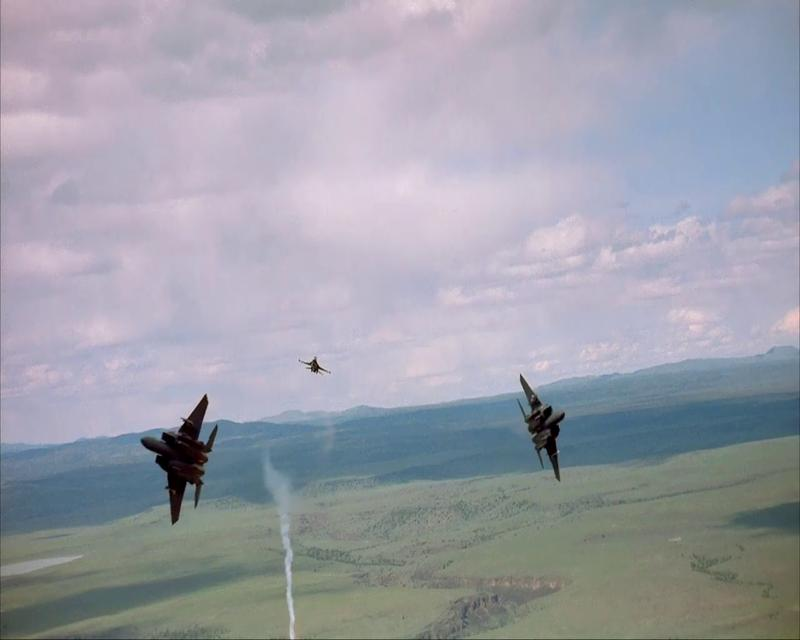UAV: (139, 392, 219, 525), (514, 372, 566, 482), (299, 356, 334, 378)
